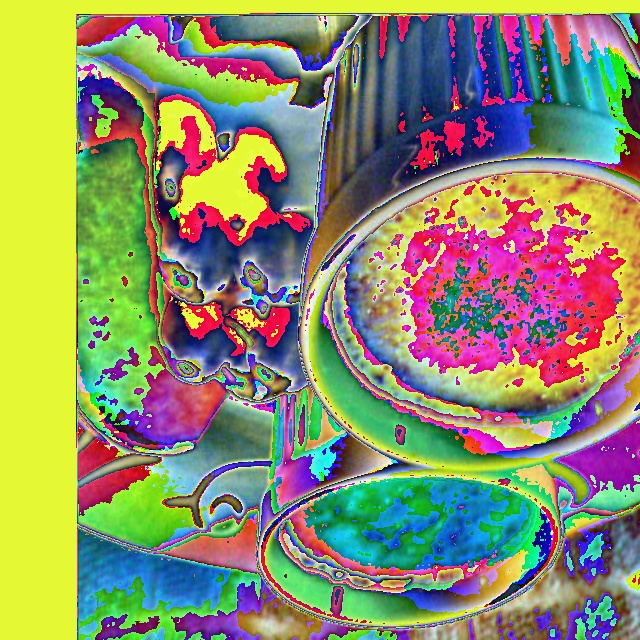background: (257, 115, 536, 594), (77, 50, 316, 458), (308, 170, 639, 426)
